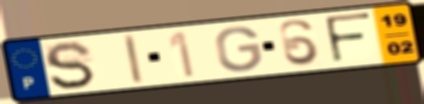1: (167, 29, 197, 80)
6: (278, 19, 321, 69)
F: (321, 11, 375, 65)
G: (213, 24, 264, 73)
I: (121, 33, 146, 86)
S: (42, 40, 99, 91)
